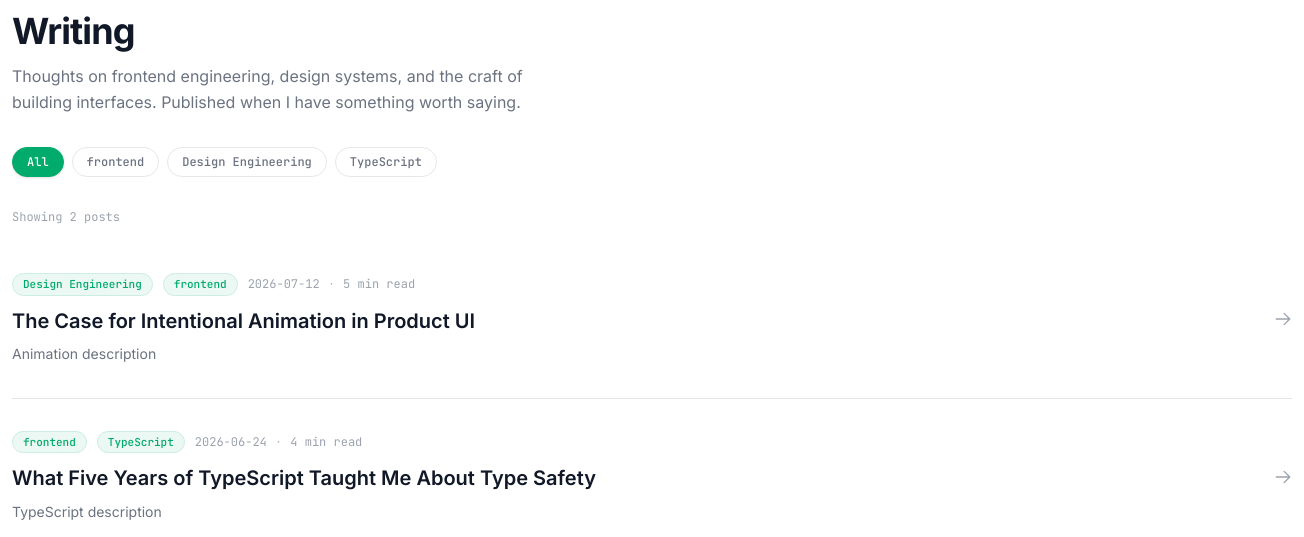
Test: BlogListSection › filters posts when selecting a tag
Click the button "Design Engineering": (247, 162) [167,147,327,177]
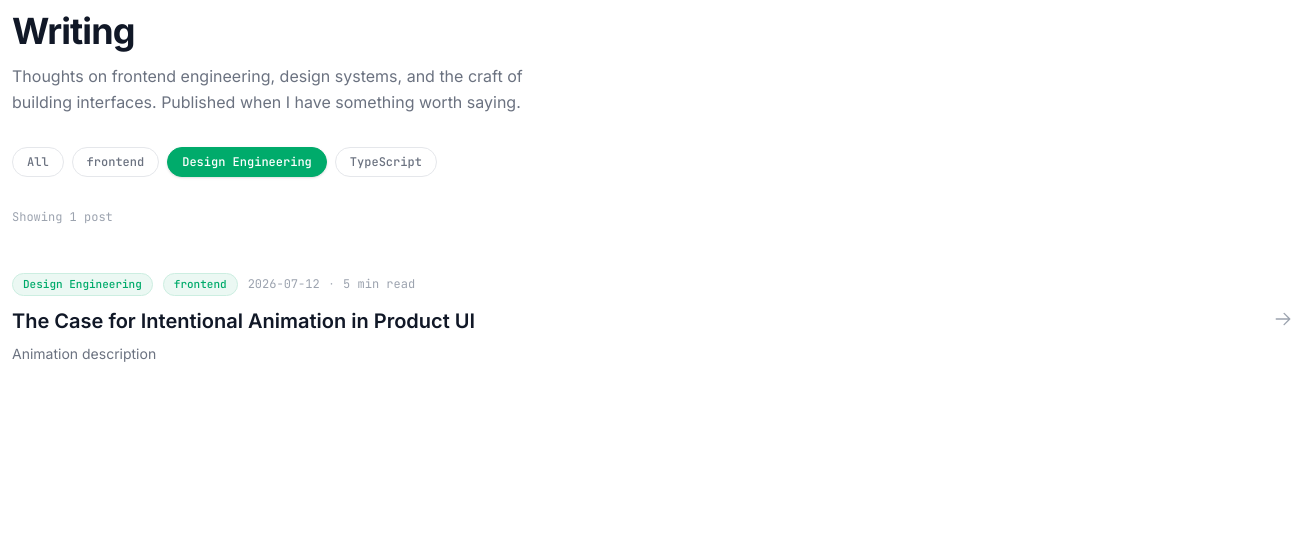
Check: the heading "The Case for Intentional Animation in Product UI" is shown, box [12,308,475,332]
Check: the text "Showing 1 post" is shown, box [12,209,113,225]
Check: the link "Five Years of TypeScript" is gone
